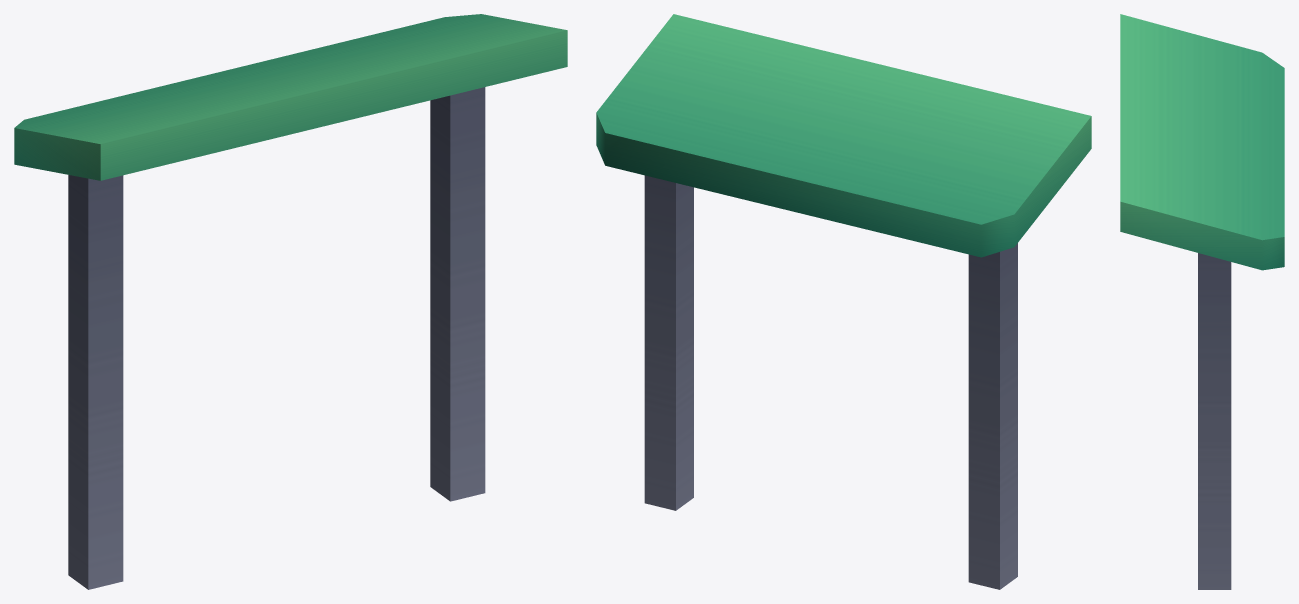
File: detail-awning.glb
3 renders of one model, left to right at view 1: azimuth 30°, elevation 25°; view 2: azimuth 150°, elevation 25°; view 3: azimuth 270°, elevation 25°, orthographic. The views are drawn at different scales.
Visible parts, largest first — view 1: detail-awning; view 2: detail-awning; view 3: detail-awning.
Boxes of the visible parts, left/top/right/bottom form: detail-awning: left=14, top=14, right=567, bottom=589; detail-awning: left=596, top=14, right=1091, bottom=589; detail-awning: left=1120, top=14, right=1284, bottom=589.
Size of the model in its own units: 0.4 by 0.4 by 0.1479.
1 material, 1 textured.
